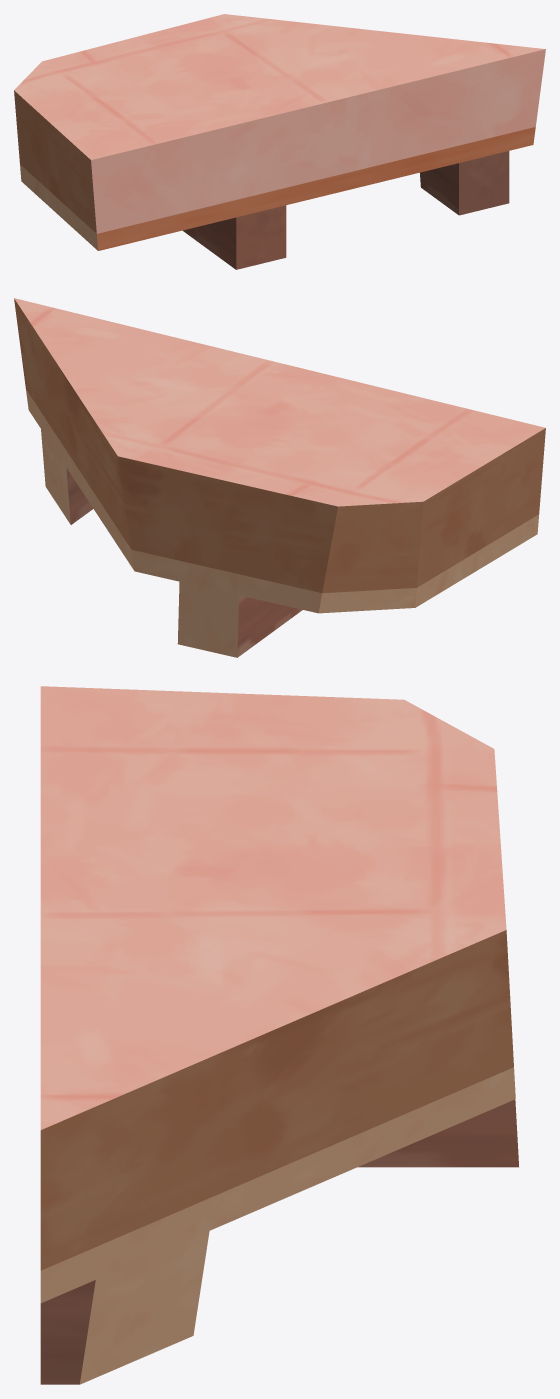
File: floor_s06.fbx
The picture shows the model from 3 angles, top to bottom: view 1: azimuth 30°, elevation 25°; view 2: azimuth 150°, elevation 25°; view 3: azimuth 270°, elevation 25°; orthographic projection. The views are drawn at different scales.
Parts seen in each view (by area): view 1: floor_s06; view 2: floor_s06; view 3: floor_s06.
Boxes of the visible parts, x1,y1,x2,y2 form: floor_s06: [14, 14, 545, 269]; floor_s06: [14, 298, 545, 657]; floor_s06: [40, 686, 518, 1384].
Size of the model in its own units: 5.44 by 1.66 by 2.48.
